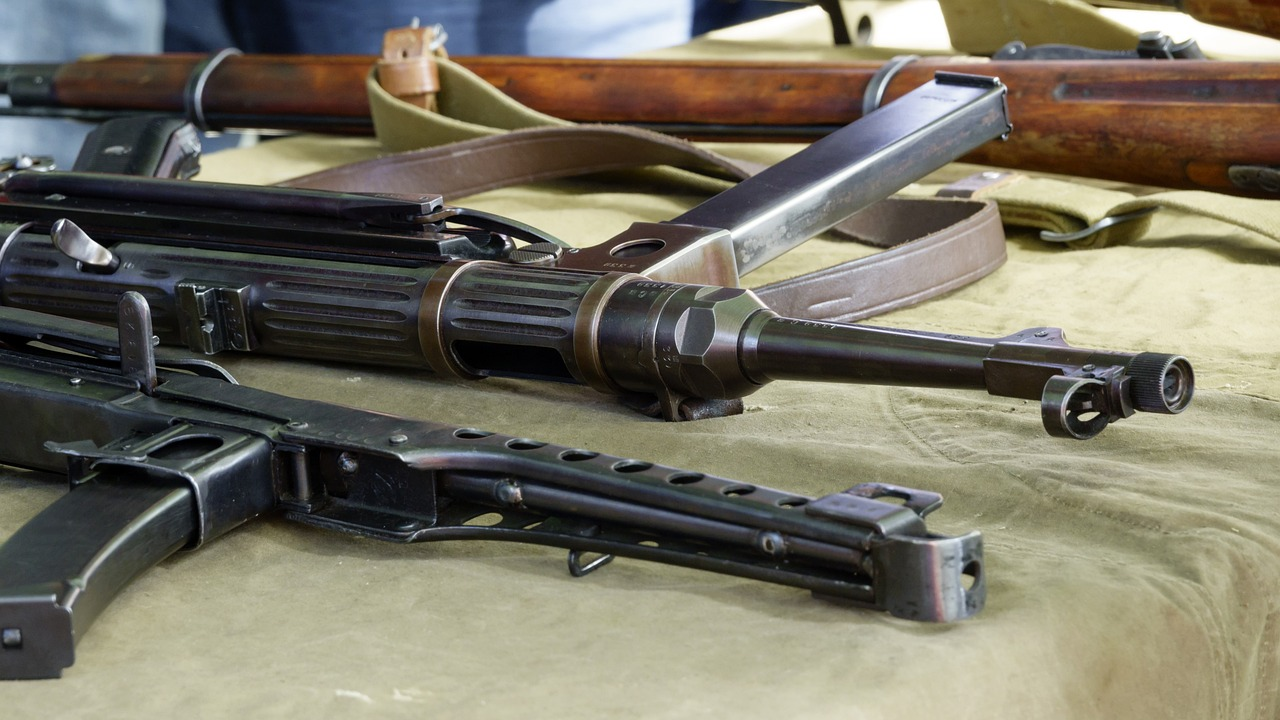gun: (0, 62, 1200, 444), (0, 285, 995, 684), (0, 23, 1279, 210)
